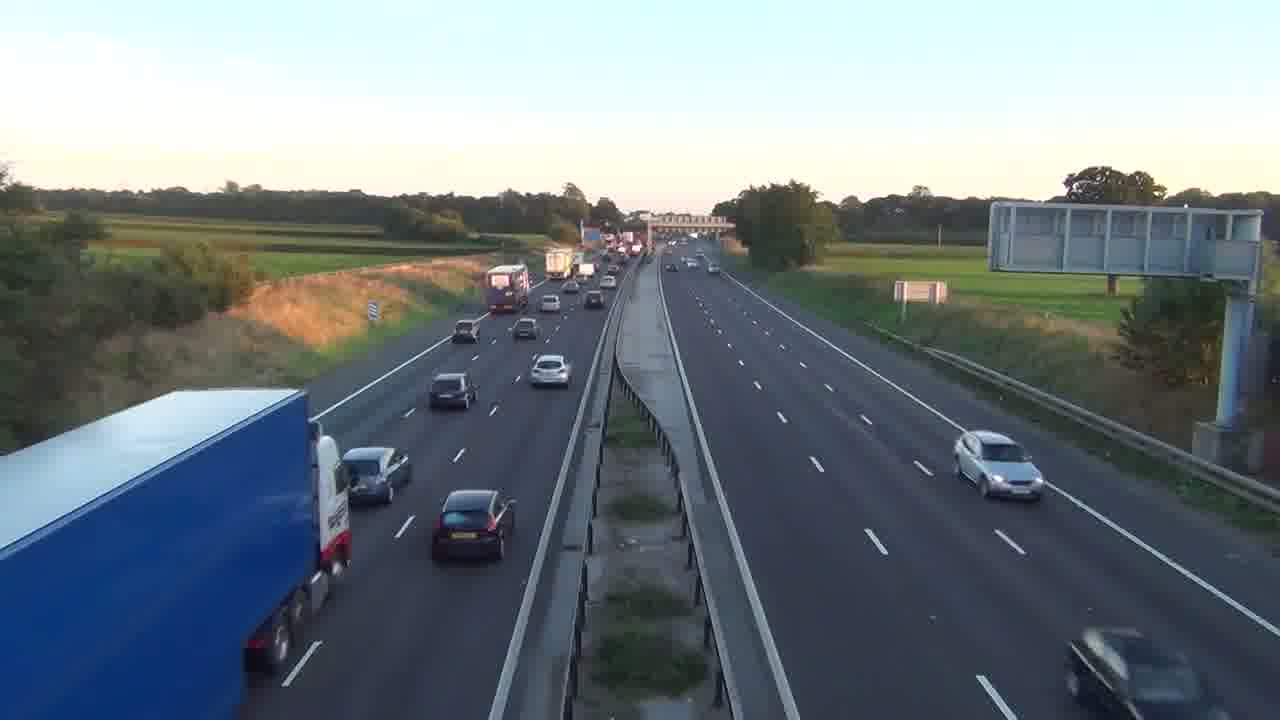car: (1063, 624, 1225, 718), (953, 429, 1044, 501), (430, 488, 517, 561), (340, 446, 412, 506), (428, 371, 477, 410), (529, 352, 572, 388), (510, 317, 539, 341)
truck: (1, 386, 352, 712)
